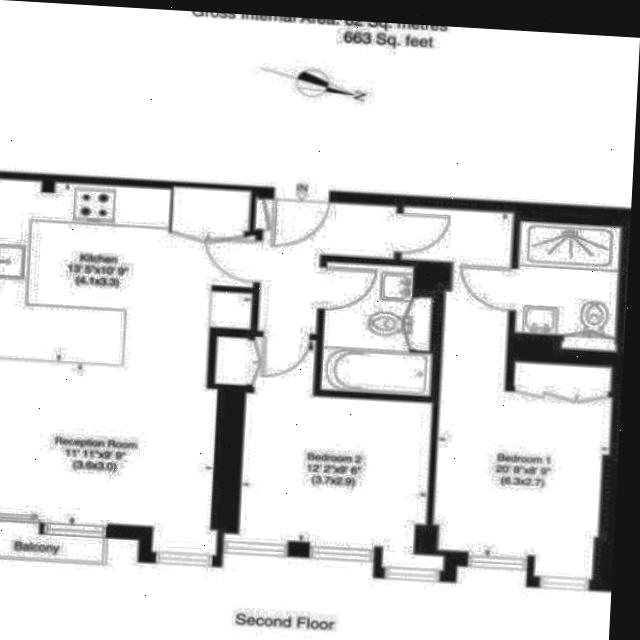room: (0, 178, 259, 558), (398, 195, 624, 588), (221, 335, 457, 571), (247, 198, 398, 340), (319, 261, 438, 397), (514, 222, 623, 352), (215, 336, 250, 386)
